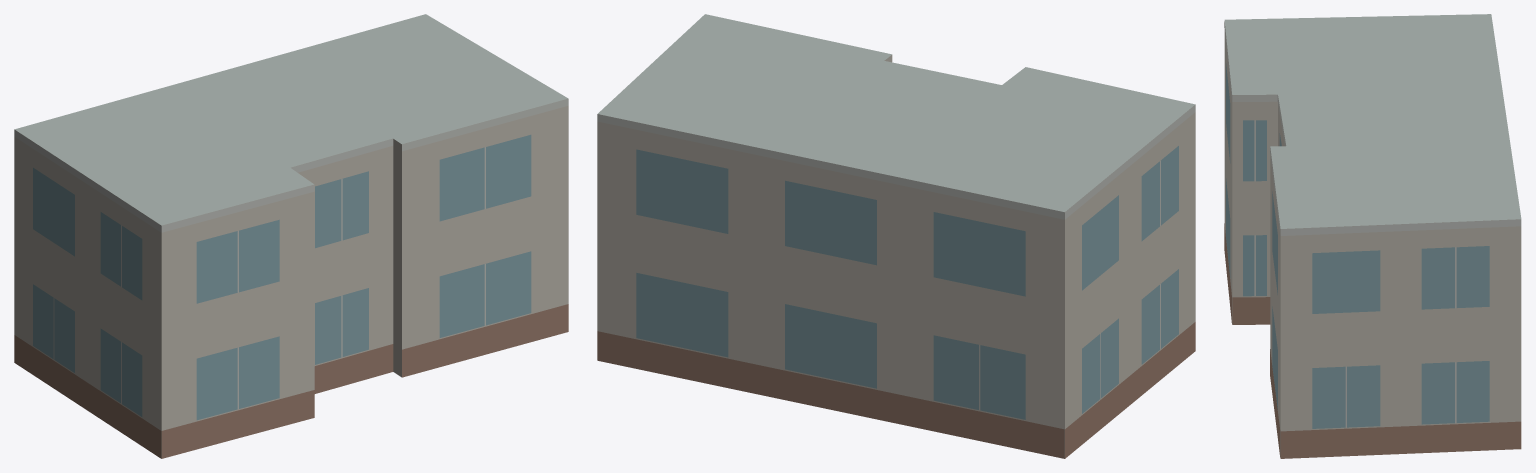
The model's file is survey-upis-32895725.glb.
The picture shows the model from 3 angles, left to right: view 1: azimuth 30°, elevation 25°; view 2: azimuth 150°, elevation 25°; view 3: azimuth 270°, elevation 25°; orthographic projection. The views are drawn at different scales.
Parts seen in each view (by area): view 1: survey-upis-32895725.tmp; view 2: survey-upis-32895725.tmp; view 3: survey-upis-32895725.tmp.
Part boxes in pixels (x1,y1,x2,y2): survey-upis-32895725.tmp: [14, 14, 568, 458]; survey-upis-32895725.tmp: [597, 14, 1195, 458]; survey-upis-32895725.tmp: [1224, 14, 1521, 458].
Bounding box in the file's own units: 15.96 × 7.95 × 9.32.
